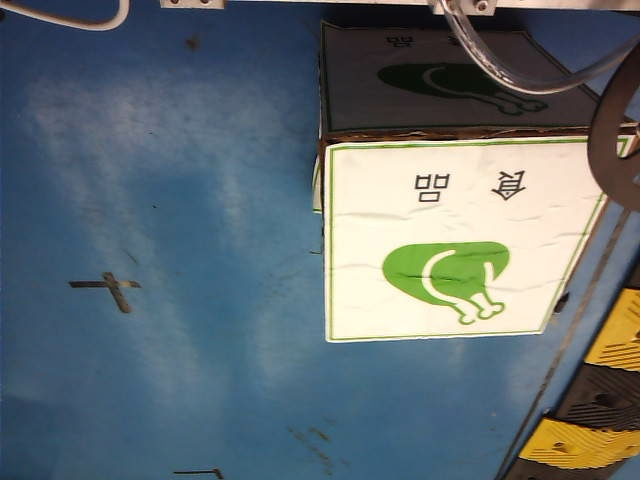Cube_food: (374, 162, 546, 331)
